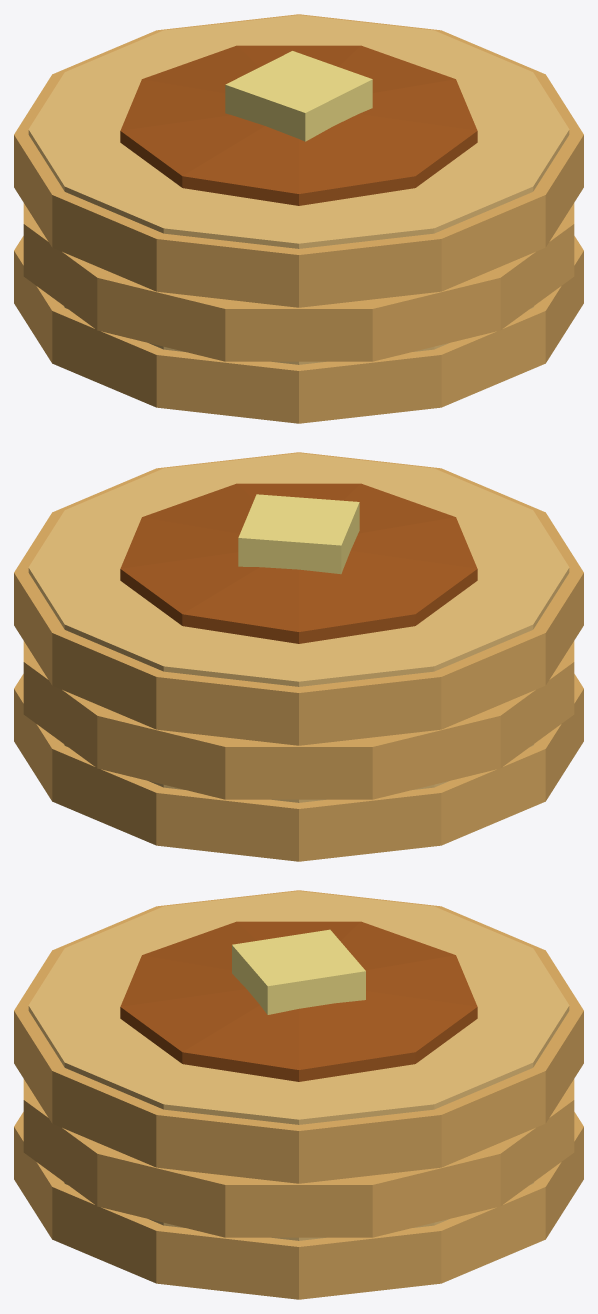
The model's file is Food_Pancake.obj.
3 renders of one model, top to bottom at view 1: azimuth 30°, elevation 25°; view 2: azimuth 150°, elevation 25°; view 3: azimuth 270°, elevation 25°, orthographic.
Size of the model in its own units: 1.96 by 0.84 by 1.96.
